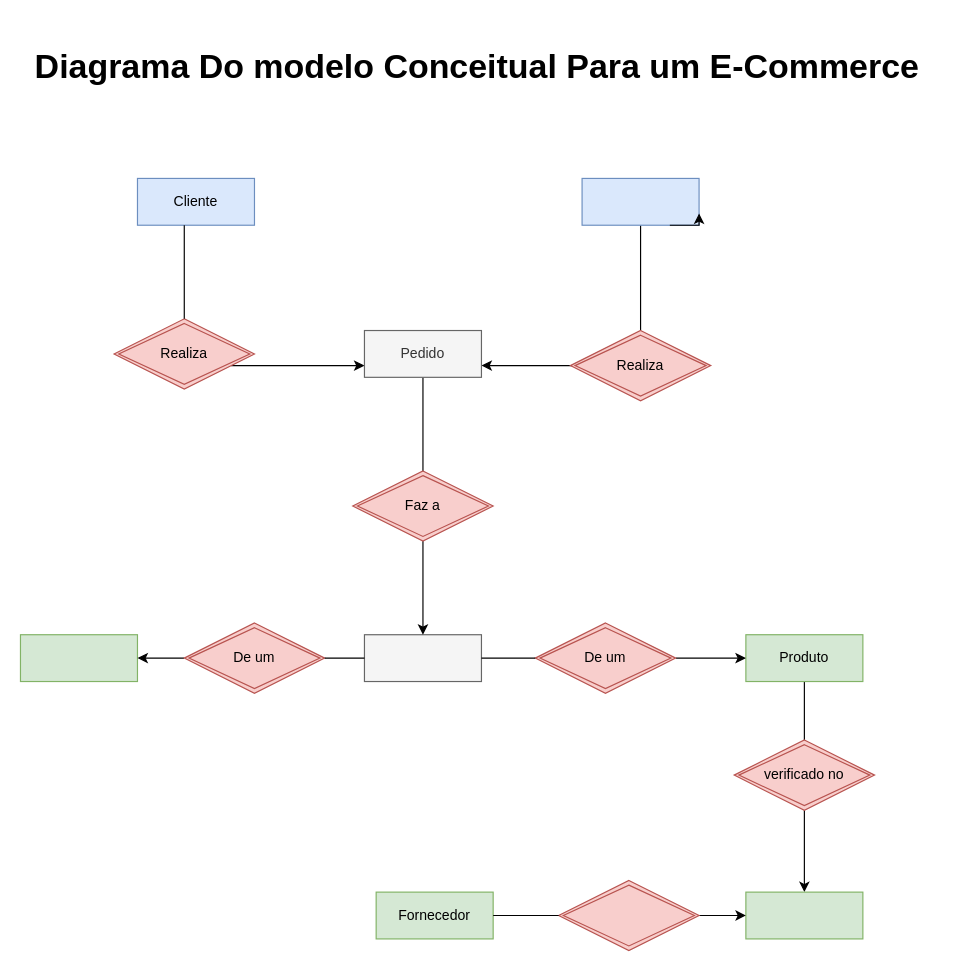
The diagram is 954 pixels wide and 971 high, and some of its shapes have lost their labels. The box of each missing label's shape, as (x1, y1, x2, y2) in pixels:
Cliente_pj: (581, 177, 699, 225)
Estoque: (745, 891, 863, 939)
Fornece para o: (558, 879, 699, 951)
Serviço: (19, 634, 137, 682)
Venda: (363, 634, 481, 682)
